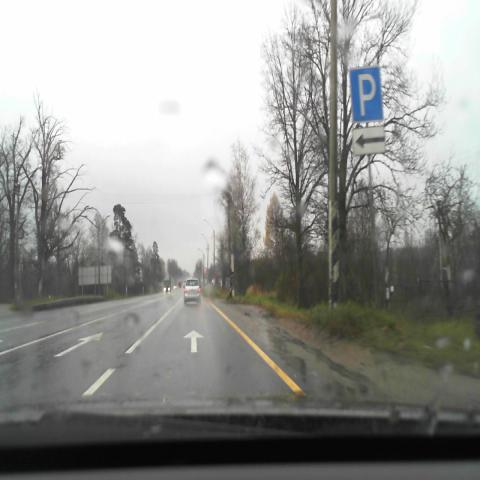6_4: (349, 65, 383, 122)
8_3_2: (353, 127, 385, 155)
